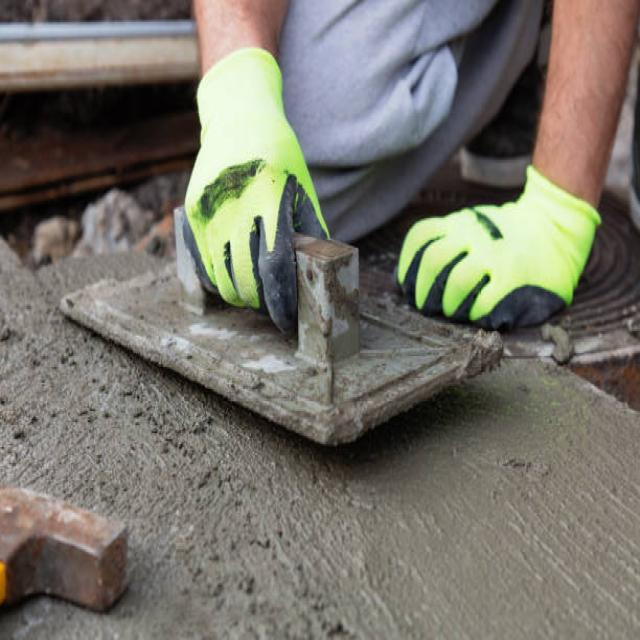gloves: (184, 44, 332, 331), (394, 162, 604, 332)
